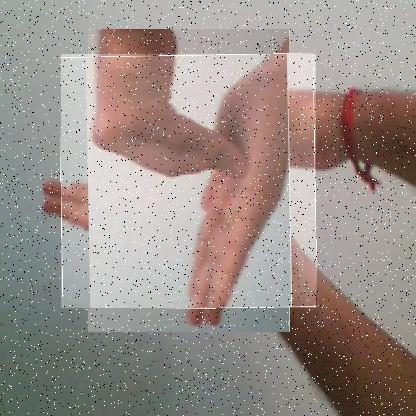Z: (60, 54, 316, 309)
